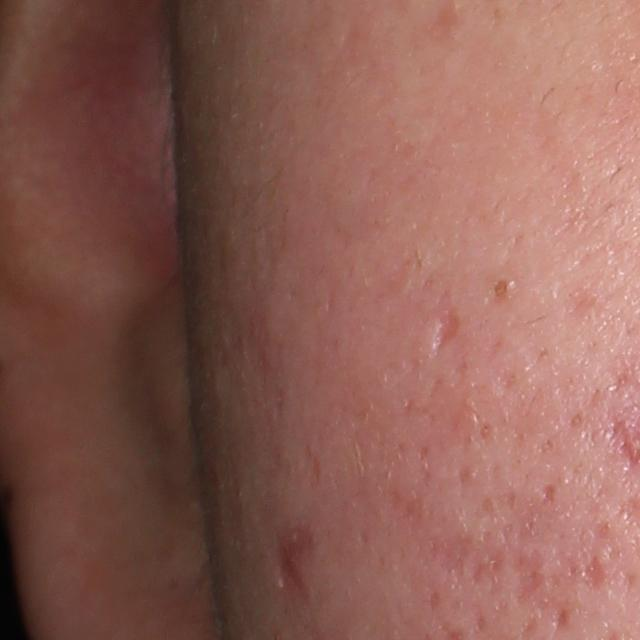atrophic_scar: (428, 520, 508, 596), (501, 518, 547, 603), (275, 515, 316, 603), (432, 294, 465, 359), (584, 554, 609, 592), (540, 478, 562, 506)
comedo: (485, 274, 519, 307)
